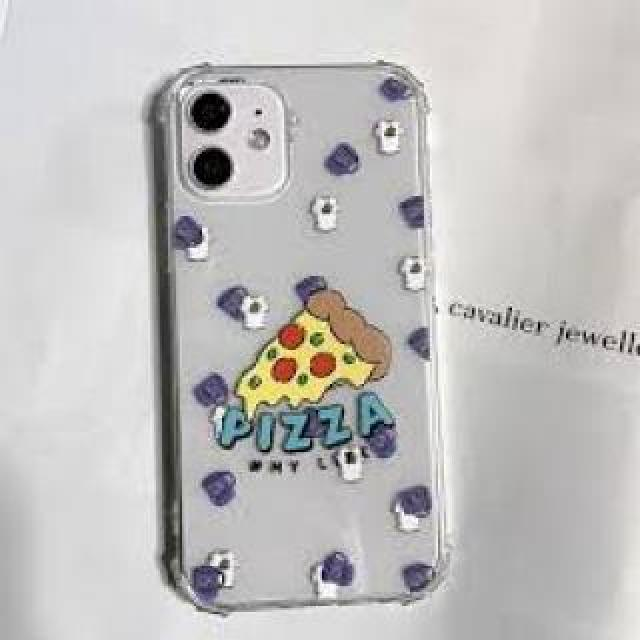smart phone: (142, 10, 496, 620)
